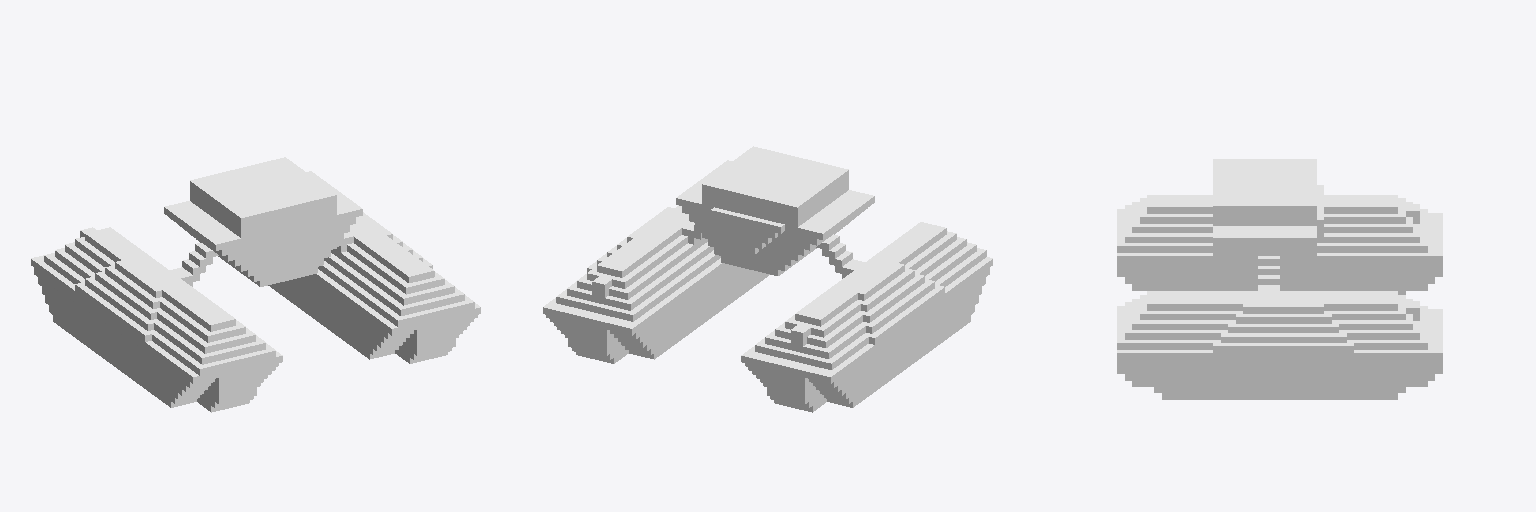
The model's file is Wheels.obj.
3 renders of one model, left to right at view 1: azimuth 30°, elevation 25°; view 2: azimuth 150°, elevation 25°; view 3: azimuth 270°, elevation 25°, orthographic.
Size of the model in its own units: 45 by 22 by 44.